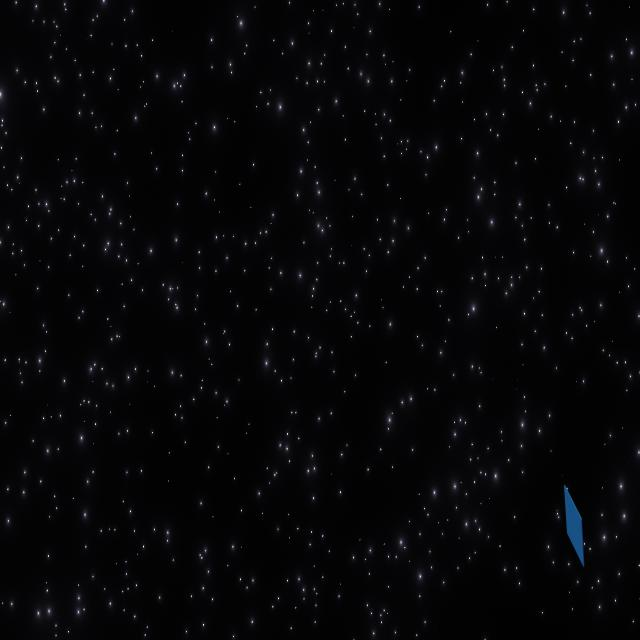large_debris: (558, 482, 586, 572)
